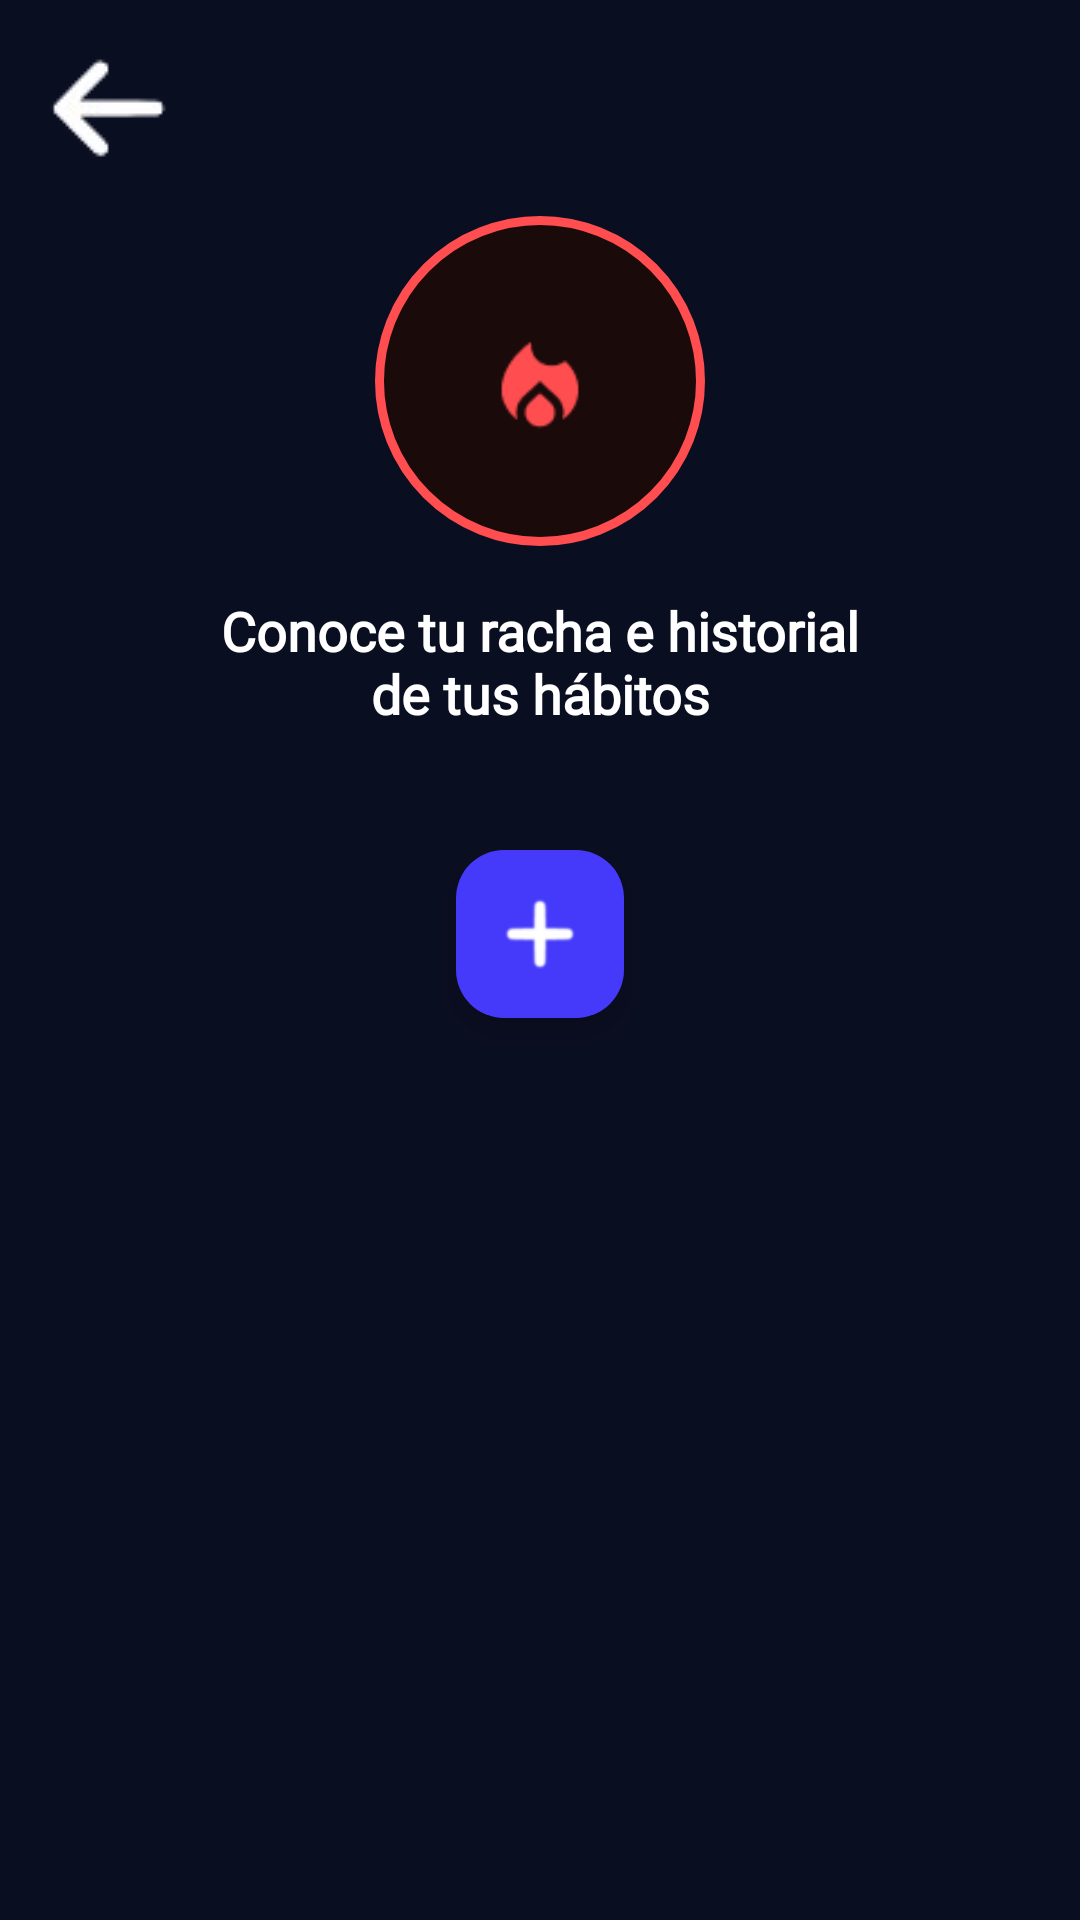

Screen size 1080×1920. Icon name, then its box in pixels as {"x1": x1, "y1": y1, "x2": x2, "y2": y2}:
Agregar hábito: {"x1": 456, "y1": 850, "x2": 624, "y2": 1018}
Volver: {"x1": 53, "y1": 59, "x2": 166, "y2": 157}
